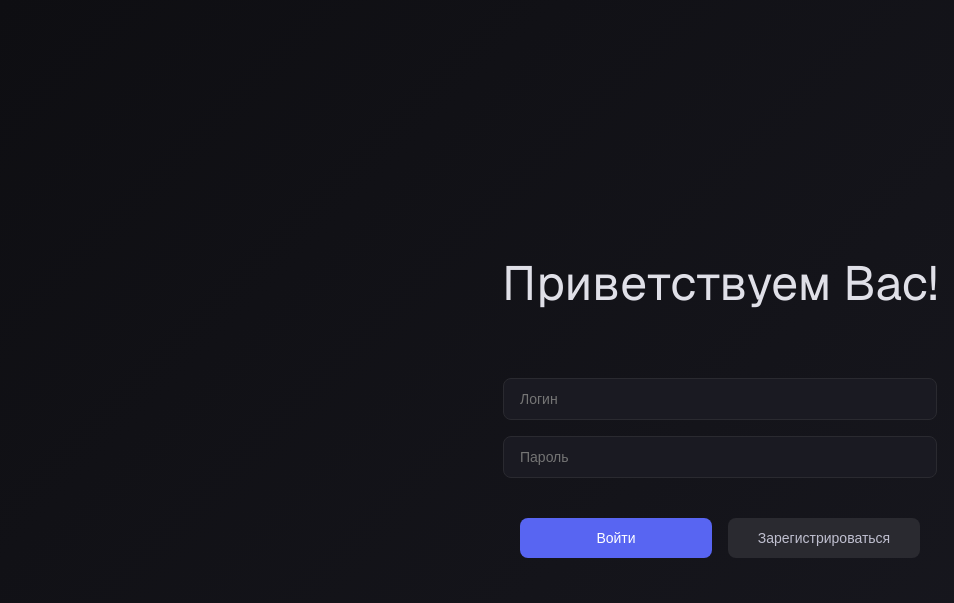
it: Auth_Page › shows error message on failed login
The image size is (954, 603).
Type "testuser" into the field with placeholder "Логин" at (720, 399), box [503,378,937,420]
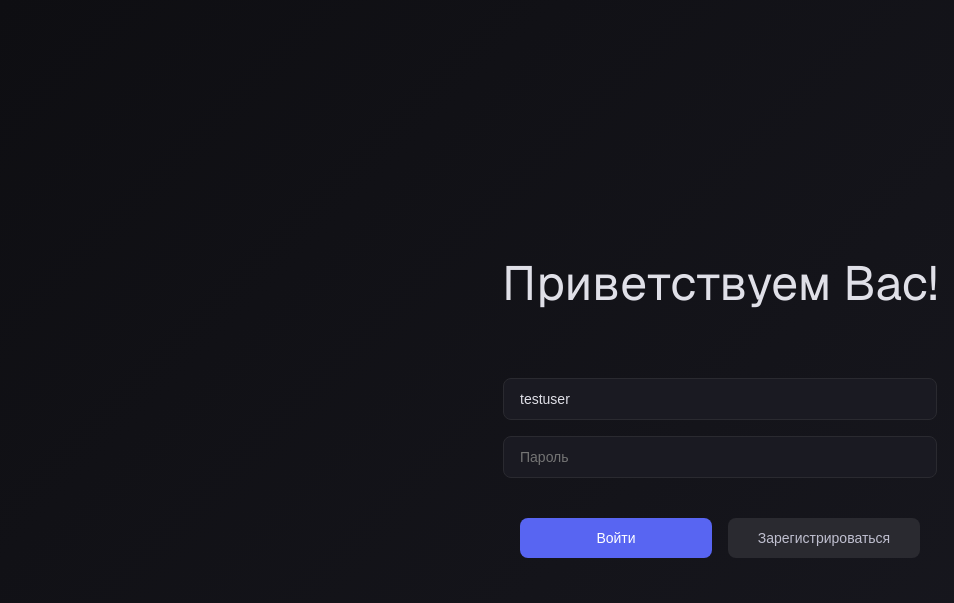
Type "wrong" into the password field with placeholder "Пароль" at (720, 457), box [503,436,937,478]
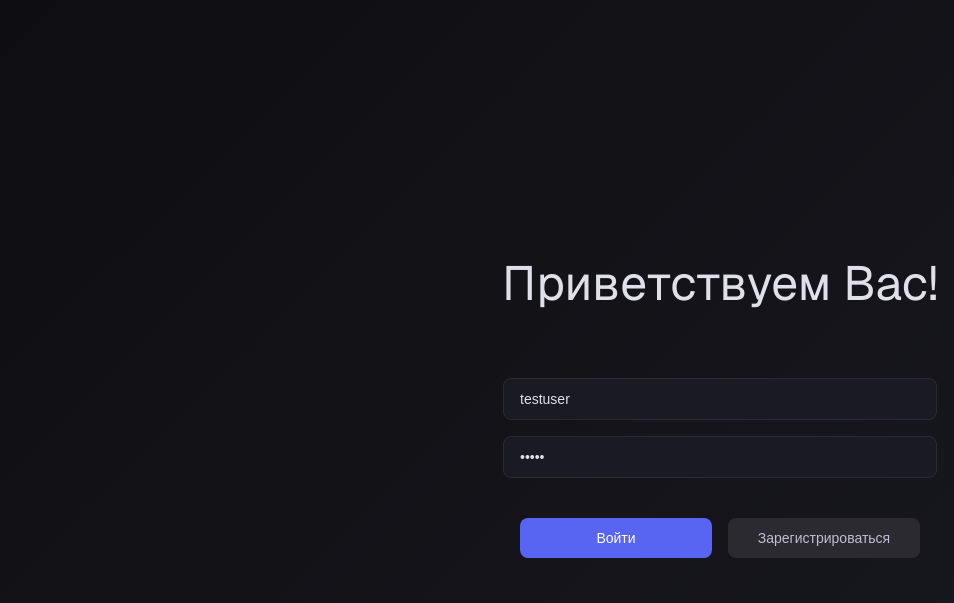
Click the button "Войти" at (616, 538), box [520,518,712,558]
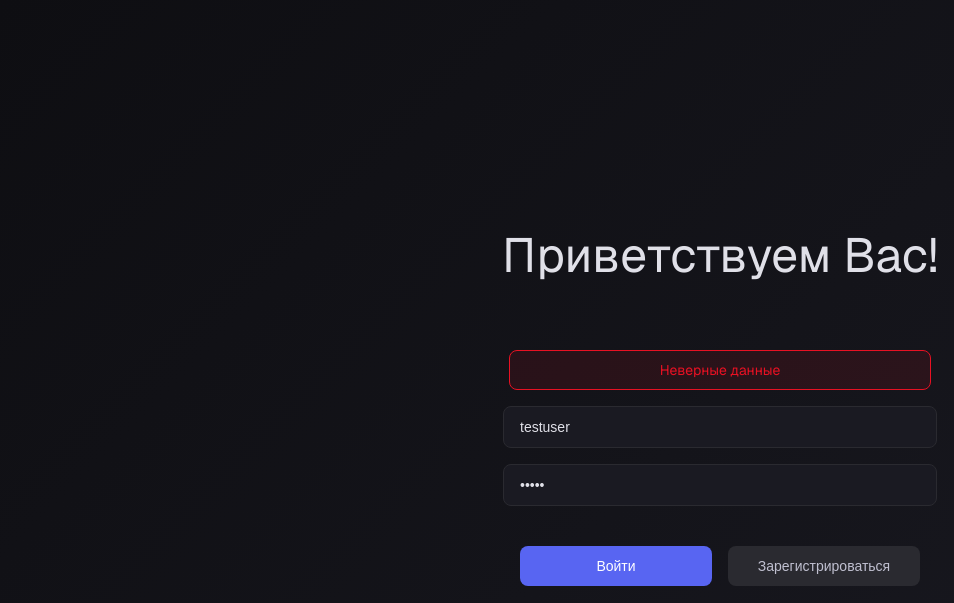
Check: the text "Неверные данные" is shown, box [509,350,931,390]
